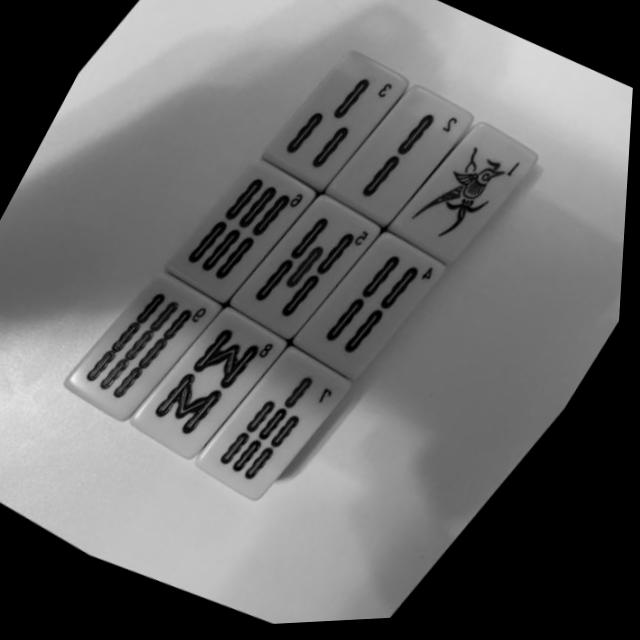sb1: (381, 108, 550, 294)
sb2: (319, 71, 485, 254)
sb3: (256, 34, 421, 216)
sb4: (288, 220, 461, 409)
sb5: (225, 180, 395, 367)
sb6: (160, 141, 332, 331)
sb7: (192, 333, 371, 531)
sb8: (130, 291, 307, 487)
sb9: (62, 252, 240, 448)
